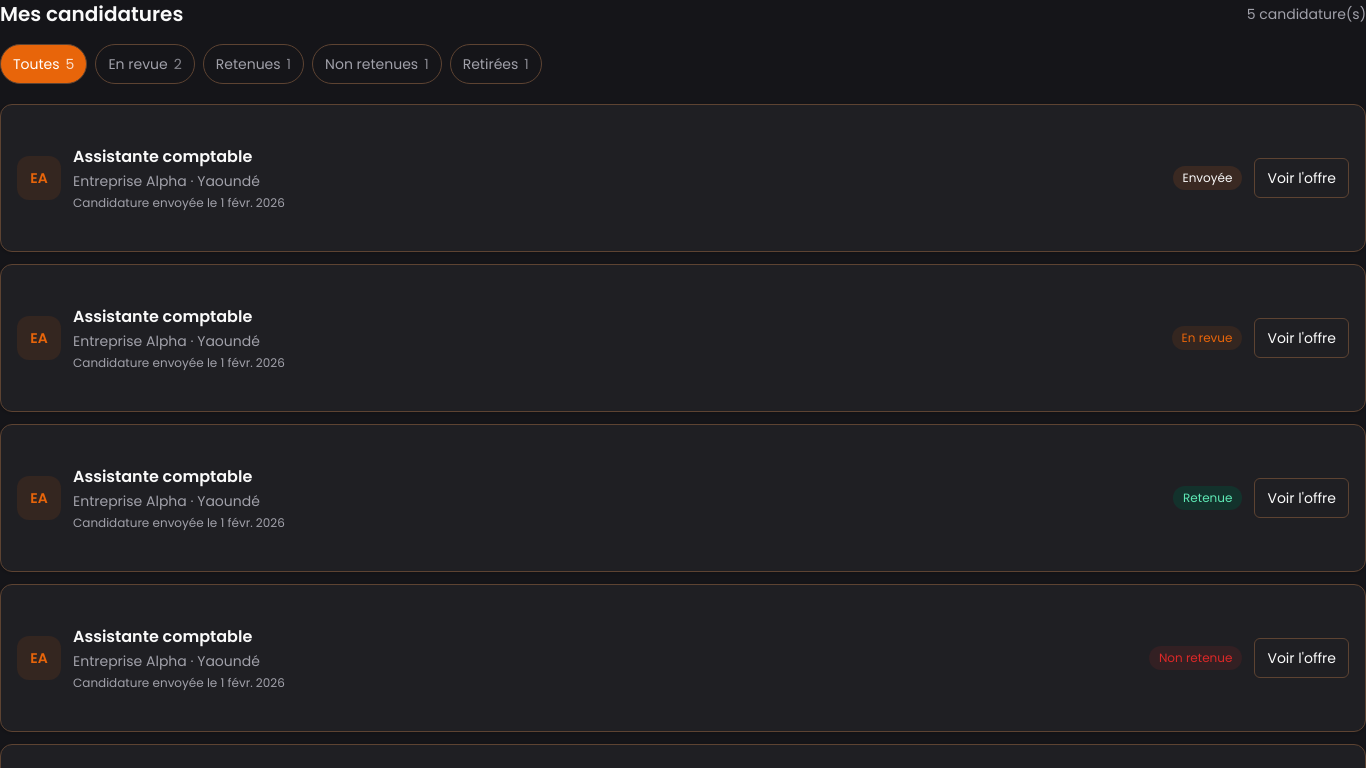
Test: Suivi des candidatures › filtre les statuts persistés et navigue vers l'offre correspondante
The image size is (1366, 768).
Check: the text "5 candidature(s)" is shown, box [1247,4,1365,24]
What coordinates should you click on to do the following:
click the button "En revue2"
I would click on:
 (145, 64)
Its box is [95,44,195,84].
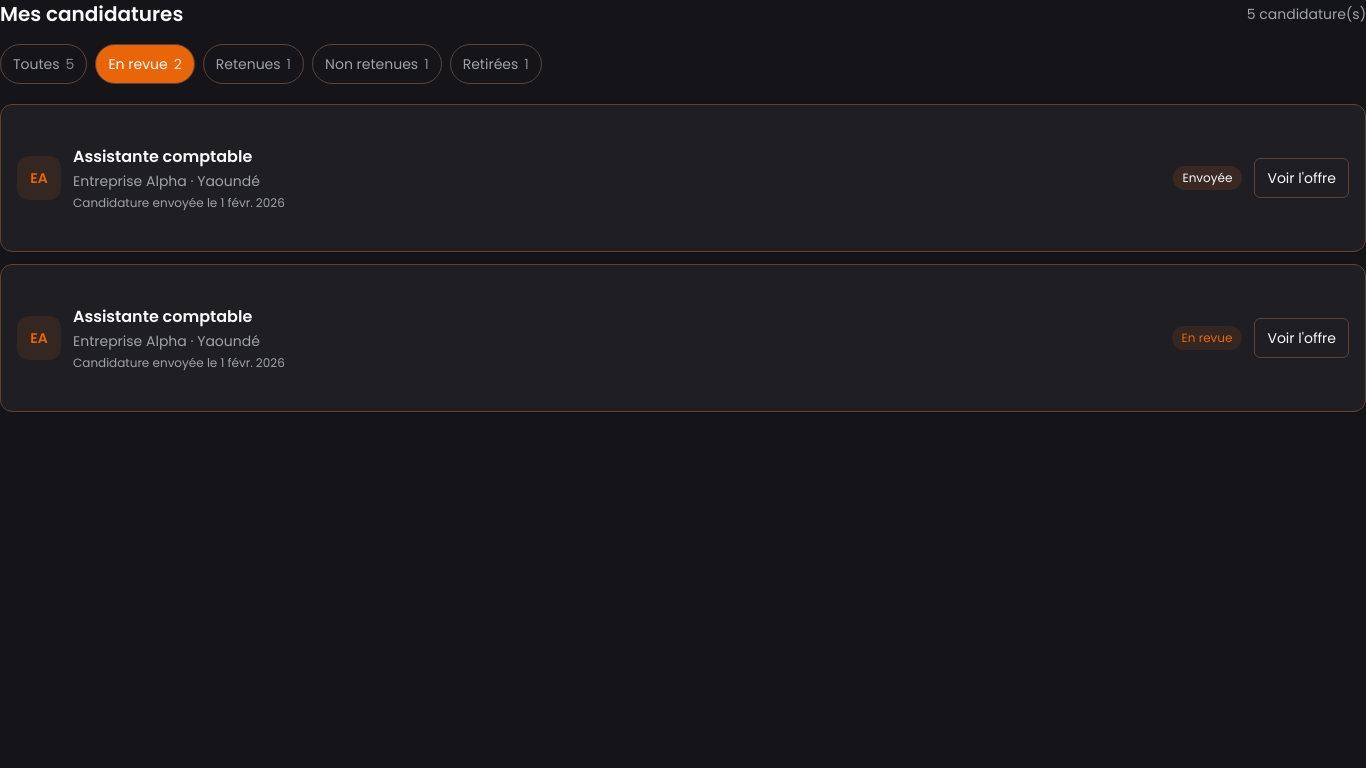
Check: the text "Assistante comptable" is shown 2 times, box [73,145,252,168]; [73,305,252,328]
What coordinates should you click on to do the following:
click the button "Non retenues1"
I would click on:
 (377, 64)
Its box is [312,44,442,84].
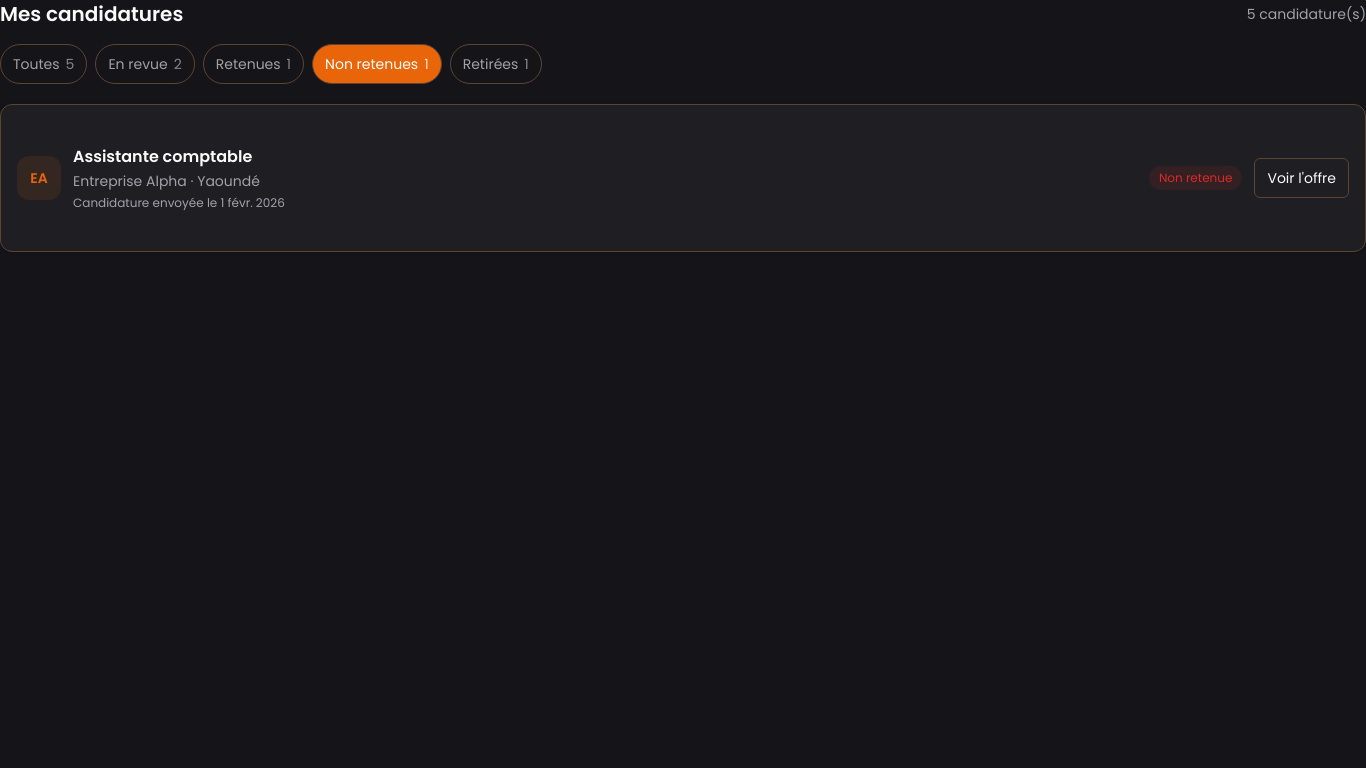
Check: the text "Assistante comptable" is shown once, box [73,145,252,168]
Check: the text "Non retenue" is shown, box [1149,166,1242,190]
